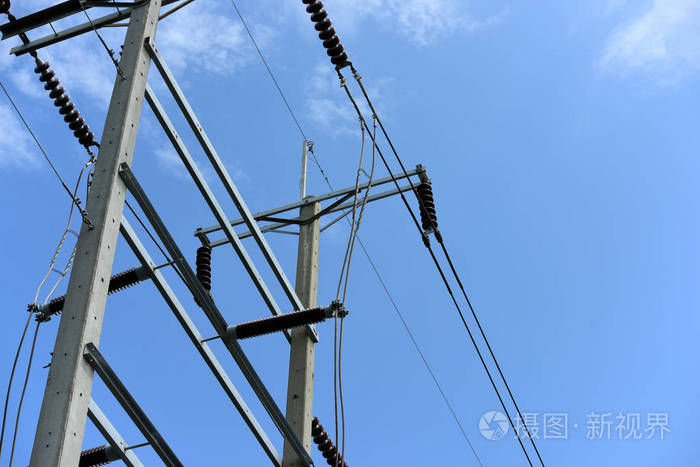insulator: (34, 59, 95, 146), (303, 1, 349, 69), (308, 415, 350, 467), (415, 182, 438, 230), (197, 246, 215, 291)
